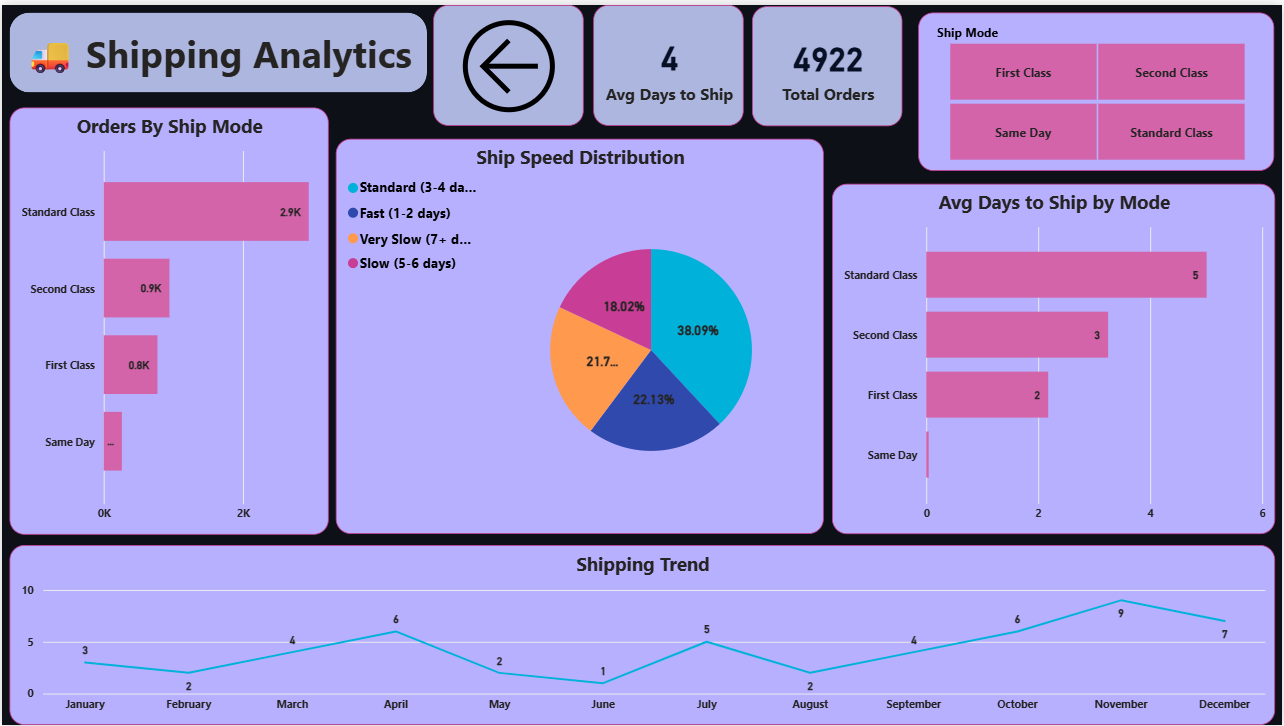

The dashboard page shown, as its layout file describes it:
{"tool":"powerbi","page":{"name":"🚚 Shipping Analytics","canvas":[1280,720],"ordinal":4},"visuals":[{"type":"shape","box":[7.5,7.5,417.5,80],"z":0},{"type":"card","fields":{"Values":["_All Measures.Avg Days to Ship"]},"box":[591.5,0,150,121.2],"z":1000},{"type":"card","fields":{"Values":["_All Measures.Total Orders"]},"box":[750.2,1.4,150,119.7],"z":2000},{"type":"slicer","fields":{"Values":["train.Ship Mode"]},"box":[916.2,7.2,356.4,158.7],"z":3000},{"type":"clusteredBarChart","title":"Orders By Ship Mode","fields":{"Y":["_All Measures.Total Orders"],"Category":["train.Ship Mode"]},"box":[7.2,102.4,318.9,427.1],"z":4000},{"type":"clusteredBarChart","title":"Avg Days to Ship by Mode","fields":{"Category":["train.Ship Mode"],"Y":["_All Measures.Avg Days to Ship"]},"box":[829.6,178.9,442.9,350.6],"z":5000},{"type":"pieChart","title":"Ship Speed Distribution","fields":{"Y":["_All Measures.Total Orders"],"Category":["train.Ship Speed"]},"box":[333.3,134.2,487.7,395.3],"z":6000},{"type":"actionButton","box":[431.4,0,150,121.2],"z":7000},{"type":"lineChart","title":"Shipping Trend","fields":{"Y":["_All Measures.Total Orders"],"Category":["Date Table.Month Name"]},"box":[7.2,539.6,1265.3,180.3],"z":8000}]}

Visuals, with their boxes in screenshot pixels (x1, y1, x2, y2), scaled from the page's 1280x720 canvas onto the 1284x726 screenshot:
shape: Rect(8, 8, 426, 88)
card - _All Measures.Avg Days to Ship: Rect(593, 0, 744, 122)
card - _All Measures.Total Orders: Rect(753, 1, 903, 122)
slicer - train.Ship Mode: Rect(919, 7, 1277, 167)
"Orders By Ship Mode" clusteredBarChart: Rect(7, 103, 327, 534)
"Avg Days to Ship by Mode" clusteredBarChart: Rect(832, 180, 1276, 534)
"Ship Speed Distribution" pieChart: Rect(334, 135, 824, 534)
actionButton: Rect(433, 0, 583, 122)
"Shipping Trend" lineChart: Rect(7, 544, 1276, 725)
